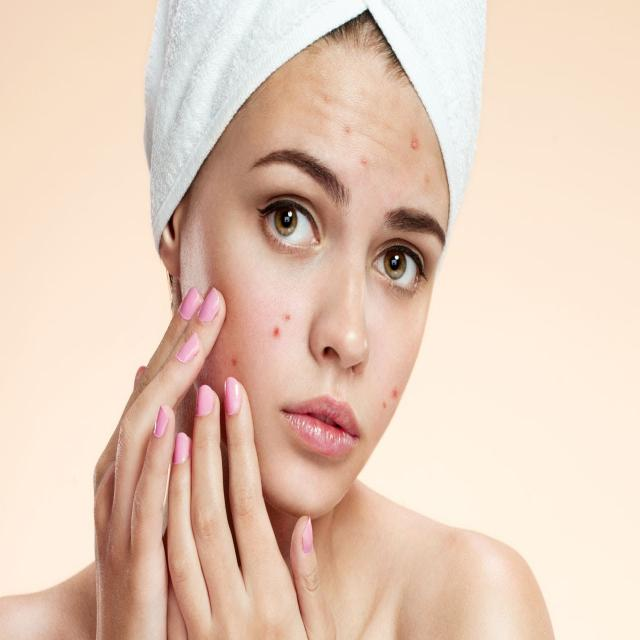Acne: (318, 85, 438, 187), (227, 302, 293, 372), (381, 379, 400, 418)
